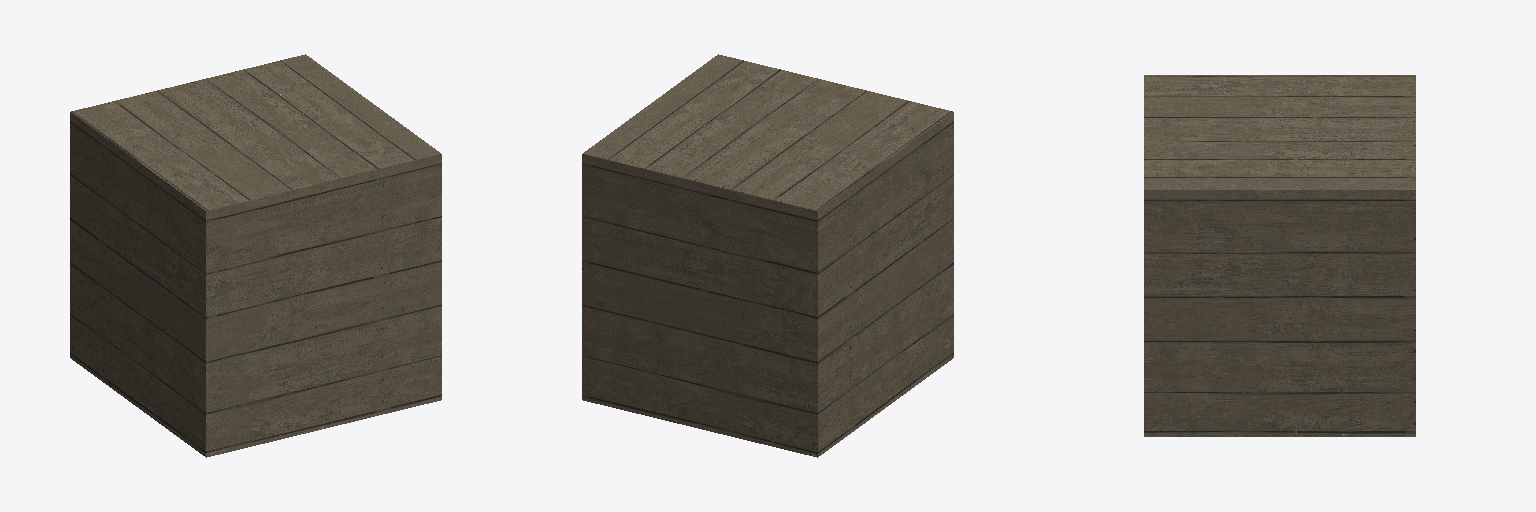
3 views of the same model, side by side, from view 1: azimuth 30°, elevation 25°; view 2: azimuth 150°, elevation 25°; view 3: azimuth 270°, elevation 25° (orthographic).
Visible parts, largest first — view 1: Cube; view 2: Cube; view 3: Cube.
Part boxes in pixels (x1,y1,x2,y2): Cube: (70,54,441,457); Cube: (582,54,953,457); Cube: (1144,75,1415,436).
Bounding box in the file's own units: 0.1 × 0.1 × 0.1.
Materials: 1 (1 with a texture image).